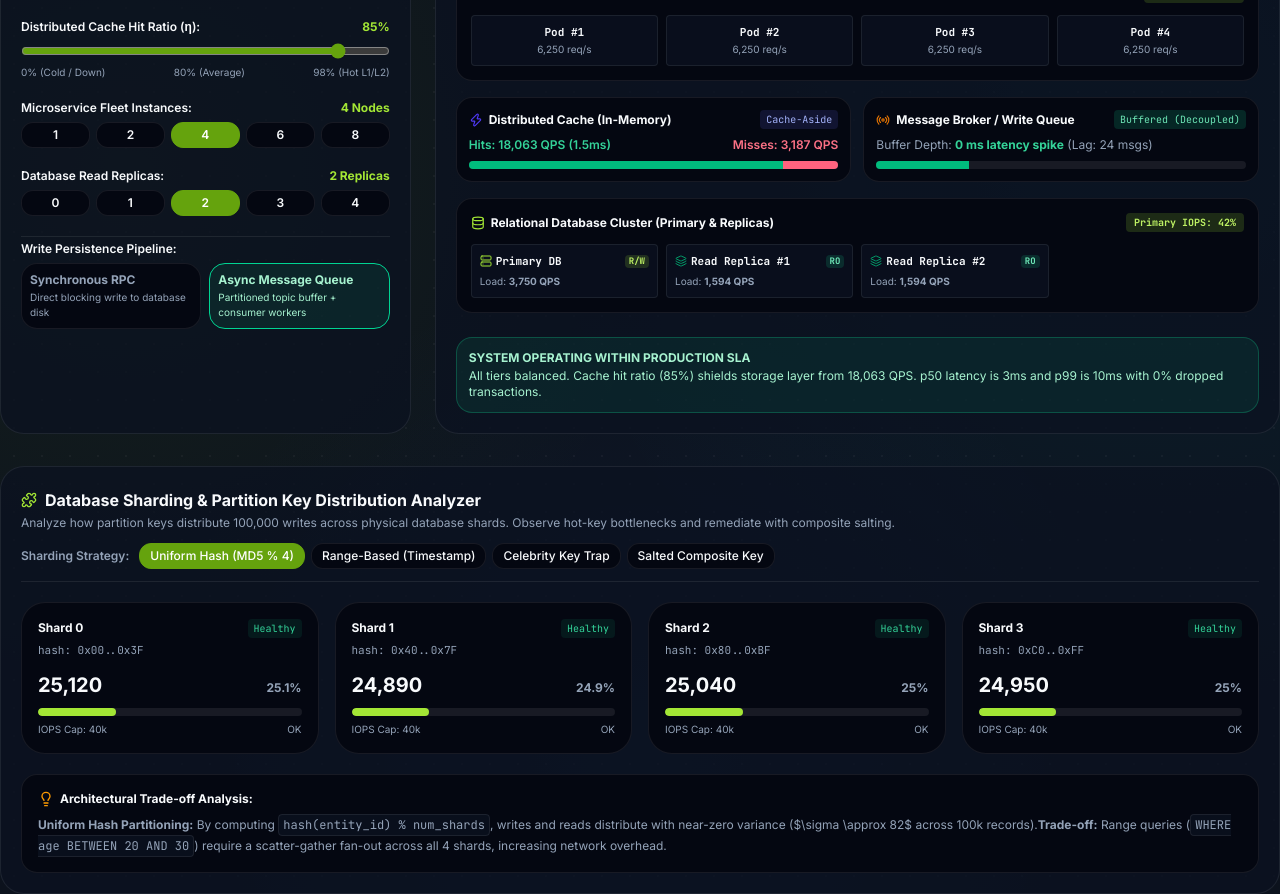
Test: SystemDesignSandbox › switches database sharding strategies and updates partition analysis
(page scrolled)
Check: the text "Database Sharding & Partition Key Distribution Analyzer" is shown, box [45,486,481,512]
Check: the text "Uniform Hash Partitioning:" is shown, box [38,817,193,832]
# Switch to Range-based hotspot
Click the button "Range-Based (Timestamp)": x=399, y=556 [311,542,486,568]
(page scrolled)
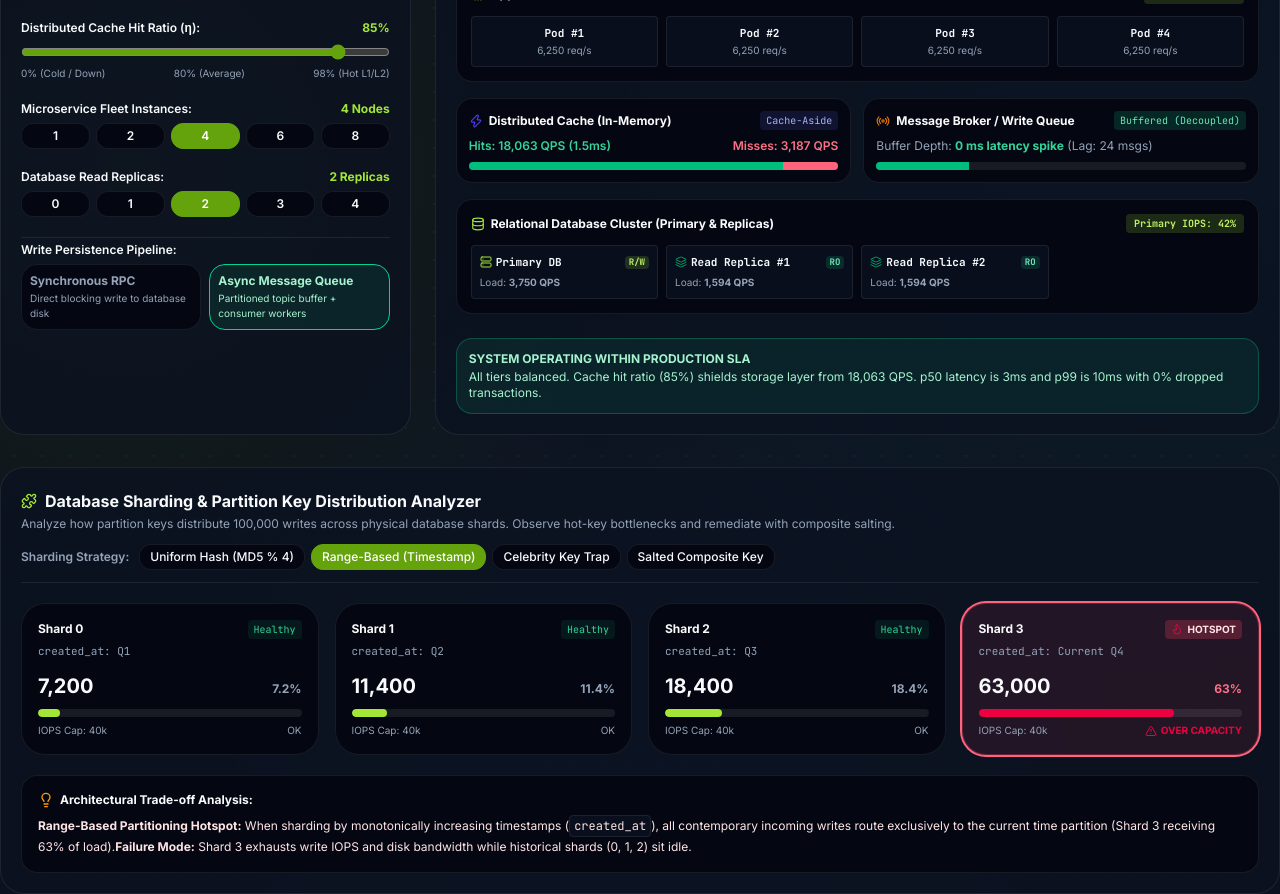
Check: the text "Range-Based Partitioning Hotspot:" is shown, box [38,818,241,833]
Check: the text "HOTSPOT" is shown, box [1187,622,1236,636]
# Switch to Celebrity key trap
Click the button "Celebrity Key Trap": x=556, y=556 [492,544,621,570]
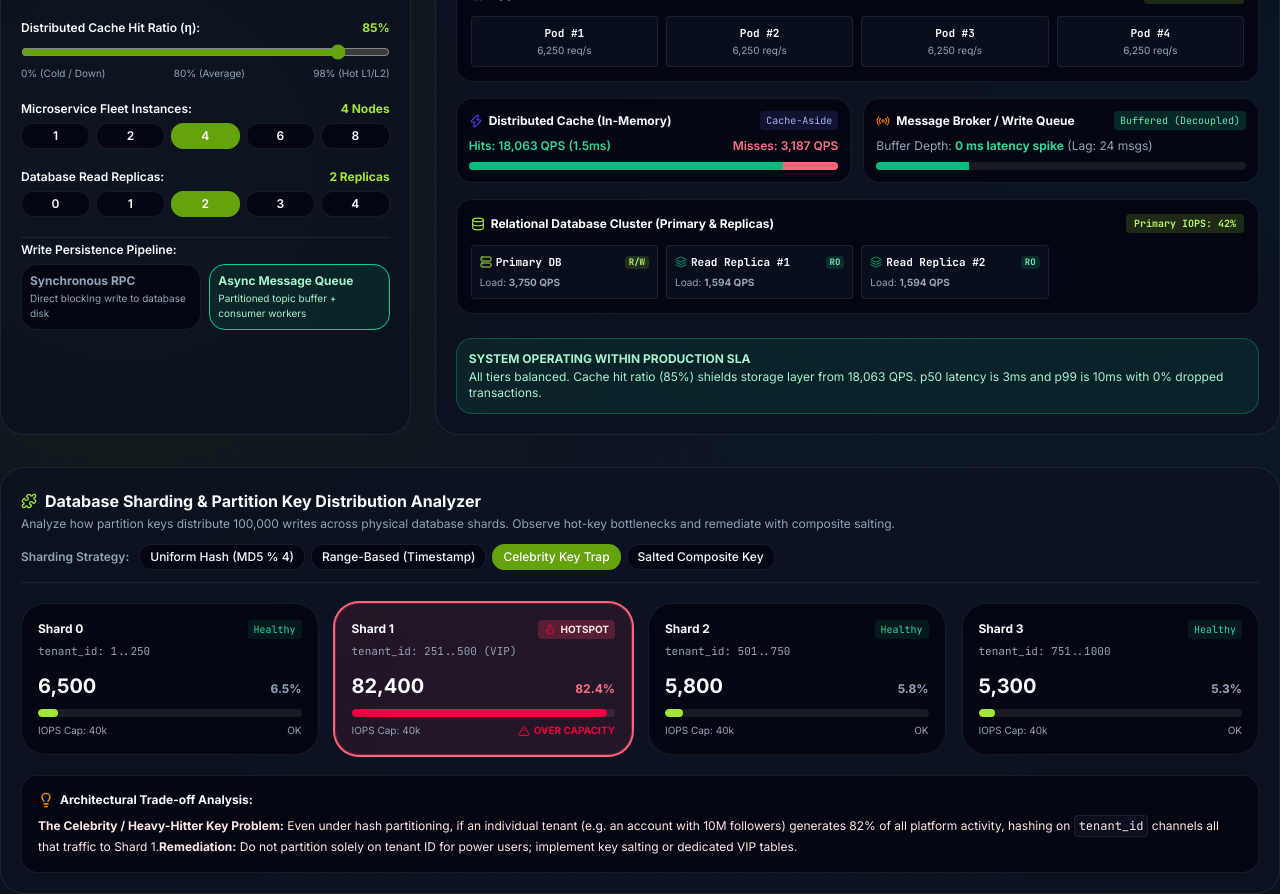
Check: the text "The Celebrity / Heavy-Hitter Key Problem:" is shown, box [38,818,284,833]
# Switch to Salted Composite key
Click the button "Salted Composite Key": x=701, y=556 [627,544,775,570]
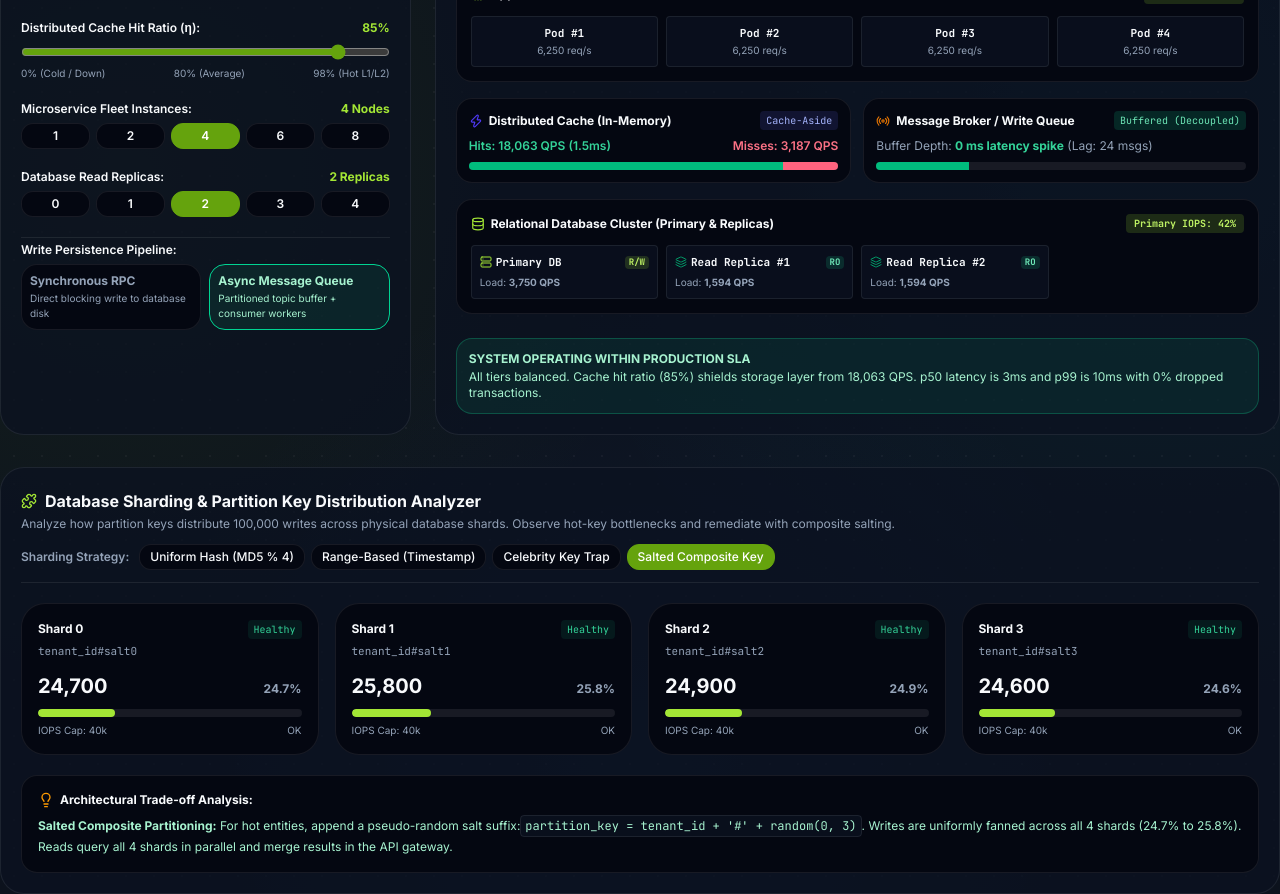
Check: the text "Salted Composite Partitioning:" is shown, box [38,818,217,833]
